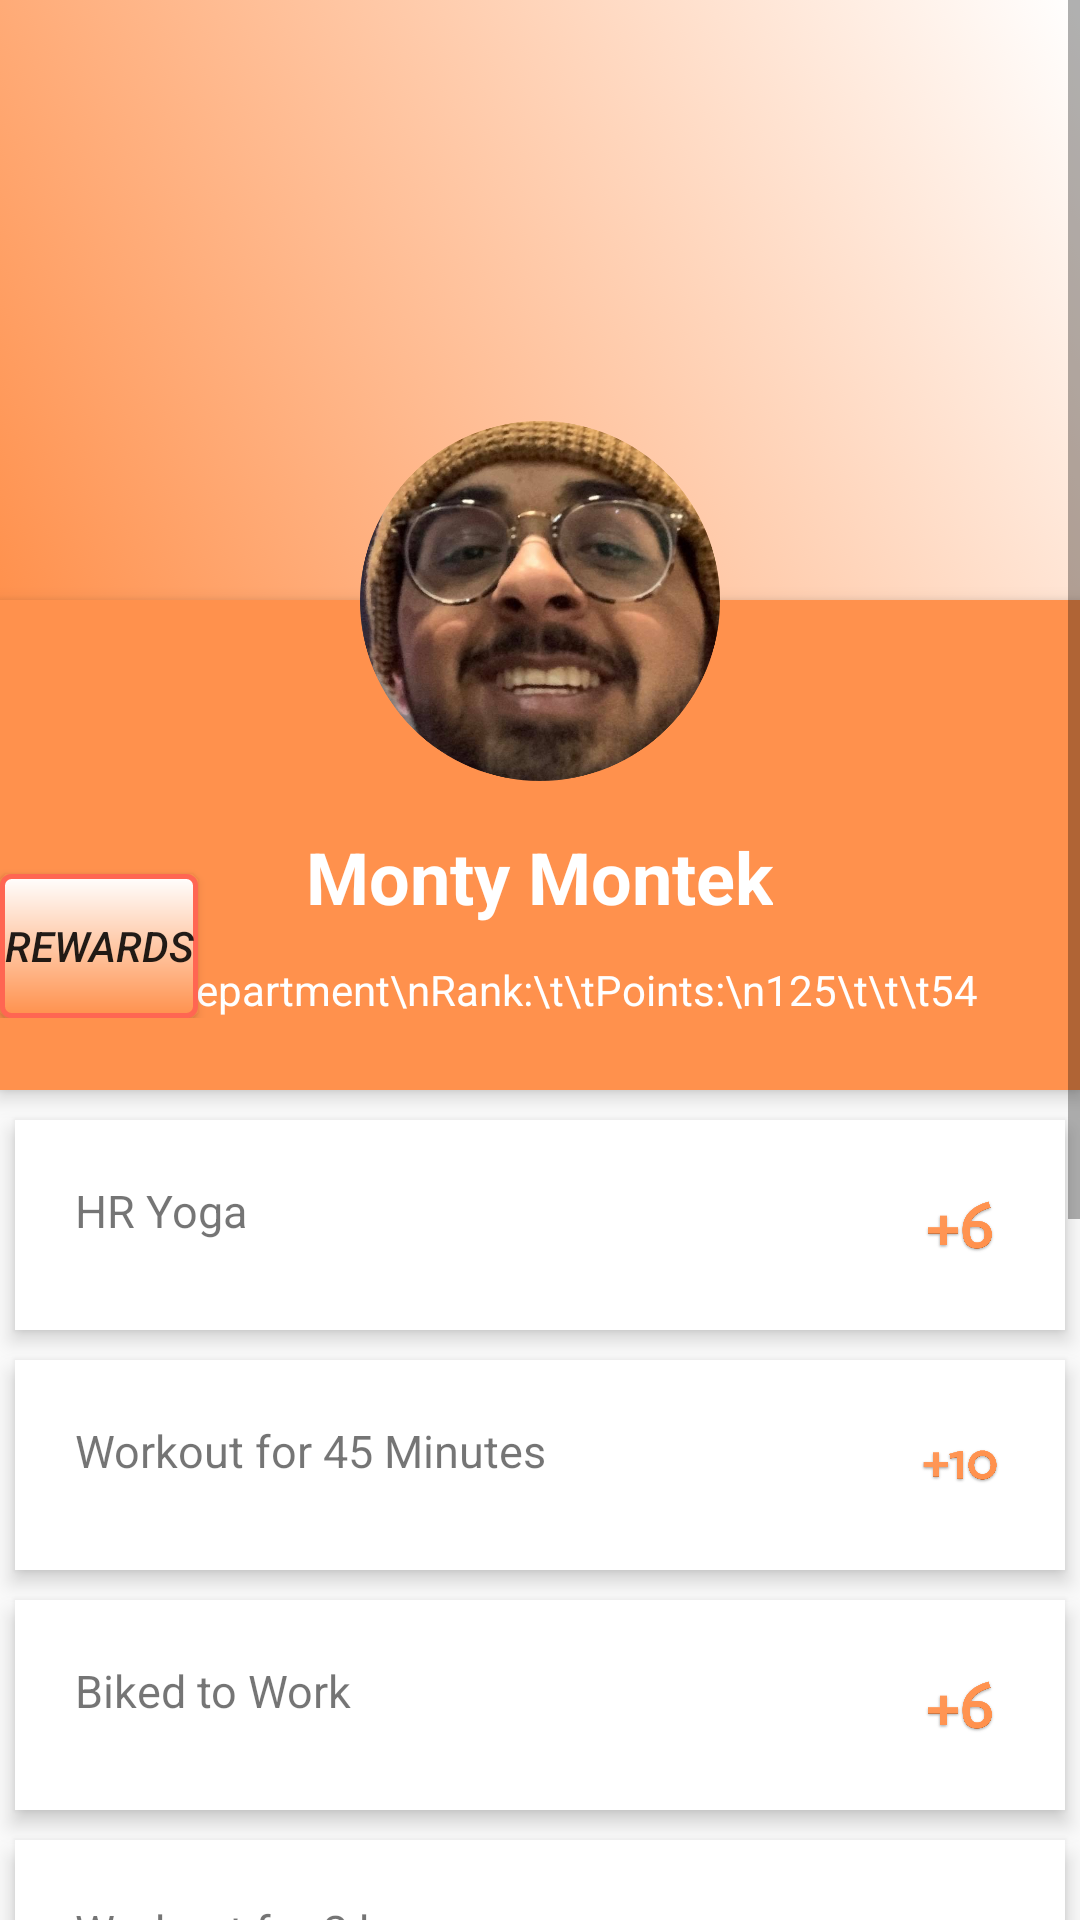

Screen size 1080px×1920px. Icon name, then its center in pixels as [x,y]:
circlecropped: [540,601]
